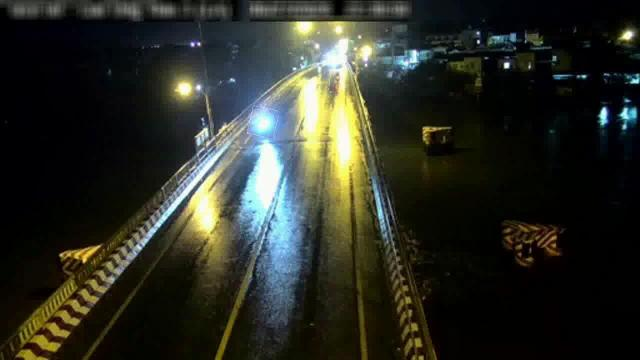Bike: (248, 106, 278, 138), (330, 71, 342, 93)
